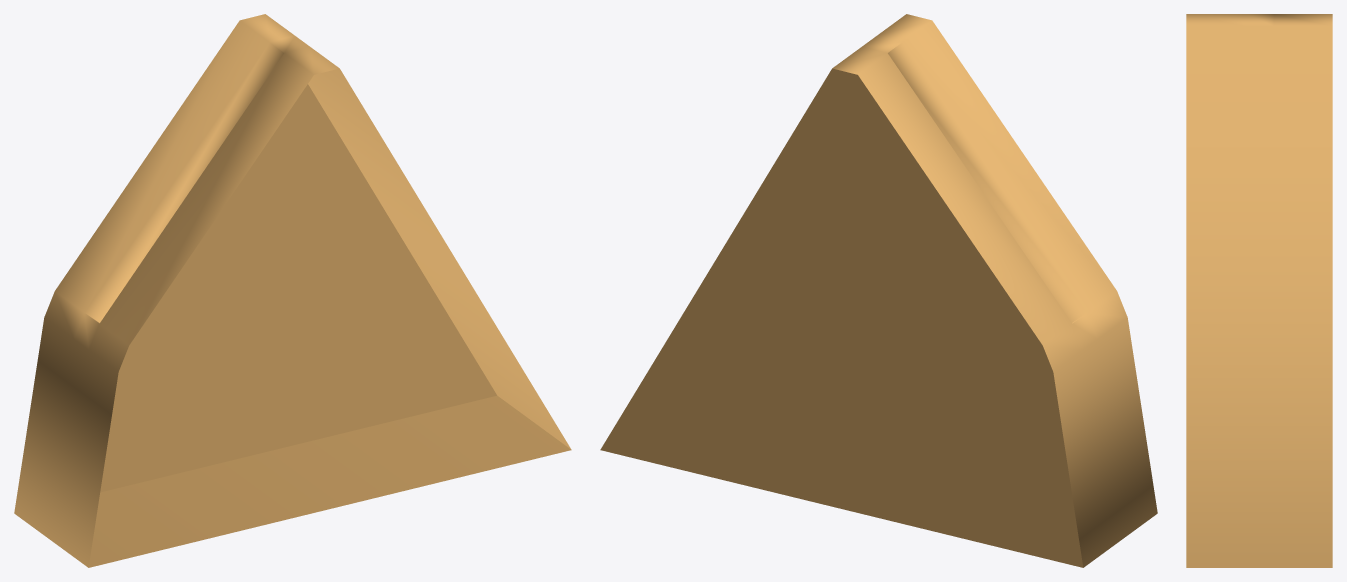
File: mod_inter_wallPanel_Close.fbx
The picture shows the model from 3 angles, left to right: view 1: azimuth 30°, elevation 25°; view 2: azimuth 150°, elevation 25°; view 3: azimuth 270°, elevation 25°; orthographic projection.
Parts seen in each view (by area): view 1: mod_inter_wallPanel_Close; view 2: mod_inter_wallPanel_Close; view 3: mod_inter_wallPanel_Close.
Part boxes in pixels (bbox=[...]): mod_inter_wallPanel_Close: bbox=[14, 14, 571, 567]; mod_inter_wallPanel_Close: bbox=[600, 14, 1157, 567]; mod_inter_wallPanel_Close: bbox=[1186, 14, 1332, 567].
Bounding box in the file's own units: 750 × 650 × 200.
